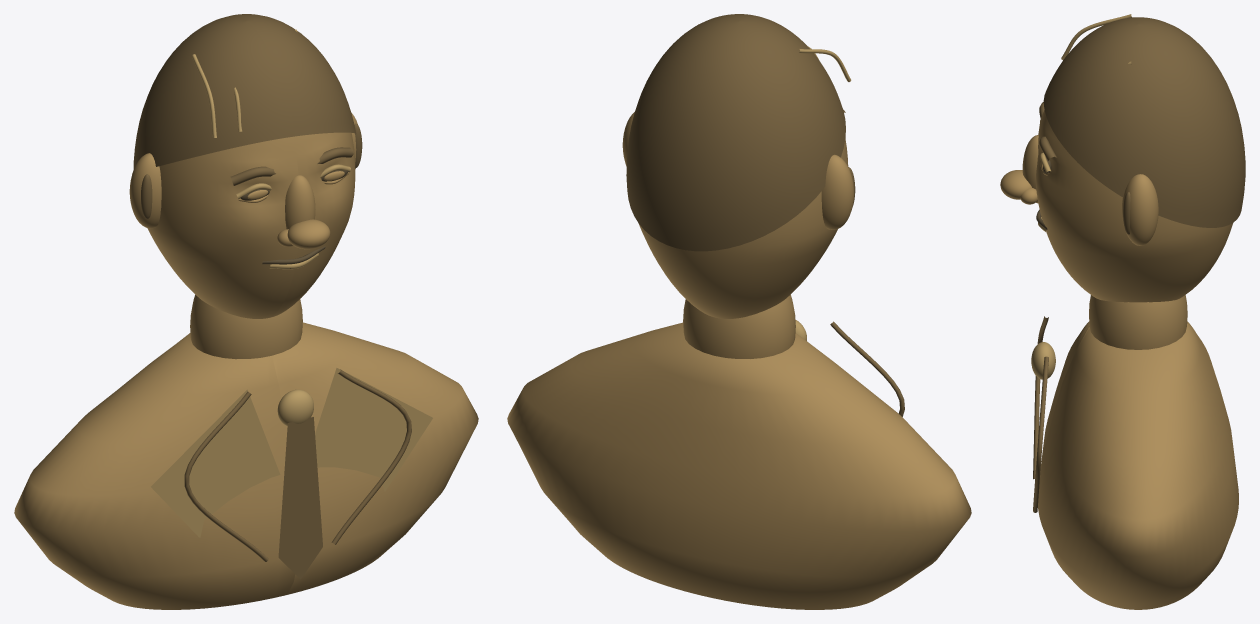
The model's file is collor.glb.
3 views of the same model, side by side, from view 1: azimuth 30°, elevation 25°; view 2: azimuth 150°, elevation 25°; view 3: azimuth 270°, elevation 25° (orthographic). The views are drawn at different scales.
Parts seen in each view (by area): view 1: collor; view 2: collor; view 3: collor.
Boxes of the visible parts, box(x1,y1,x2,y2) form: collor: box(14, 14, 478, 609); collor: box(507, 14, 971, 609); collor: box(1000, 14, 1245, 609).
Bounding box in the file's own units: 1.22 × 1.4 × 0.5957.
